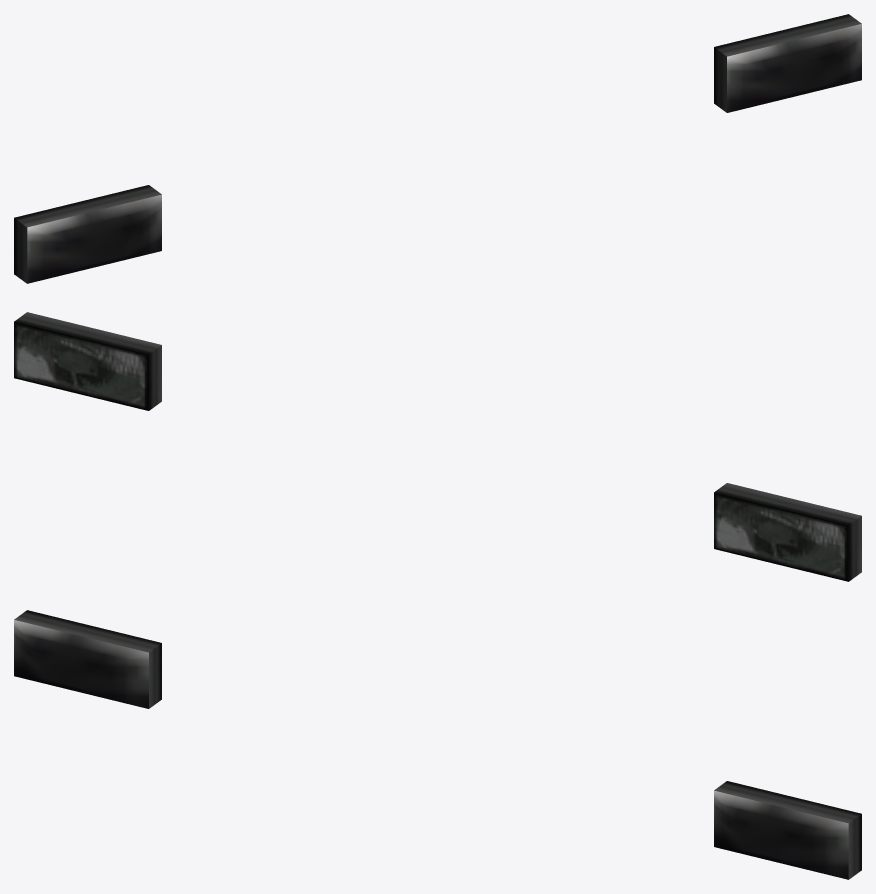
The model's file is lgt_b_sspt.glb.
The picture shows the model from 3 angles, top to bottom: view 1: azimuth 30°, elevation 25°; view 2: azimuth 150°, elevation 25°; view 3: azimuth 330°, elevation 25°; orthographic projection.
Parts seen in each view (by area): view 1: lgt_b_sspt; view 2: lgt_b_sspt; view 3: lgt_b_sspt.
Part boxes in pixels (x1,y1,x2,y2): lgt_b_sspt: (14, 14, 861, 283); lgt_b_sspt: (14, 312, 861, 581); lgt_b_sspt: (14, 610, 861, 879).
Bounding box in the file's own units: 1.59 × 0.1031 × 0.1132.
Materials: 2 (2 with a texture image).
